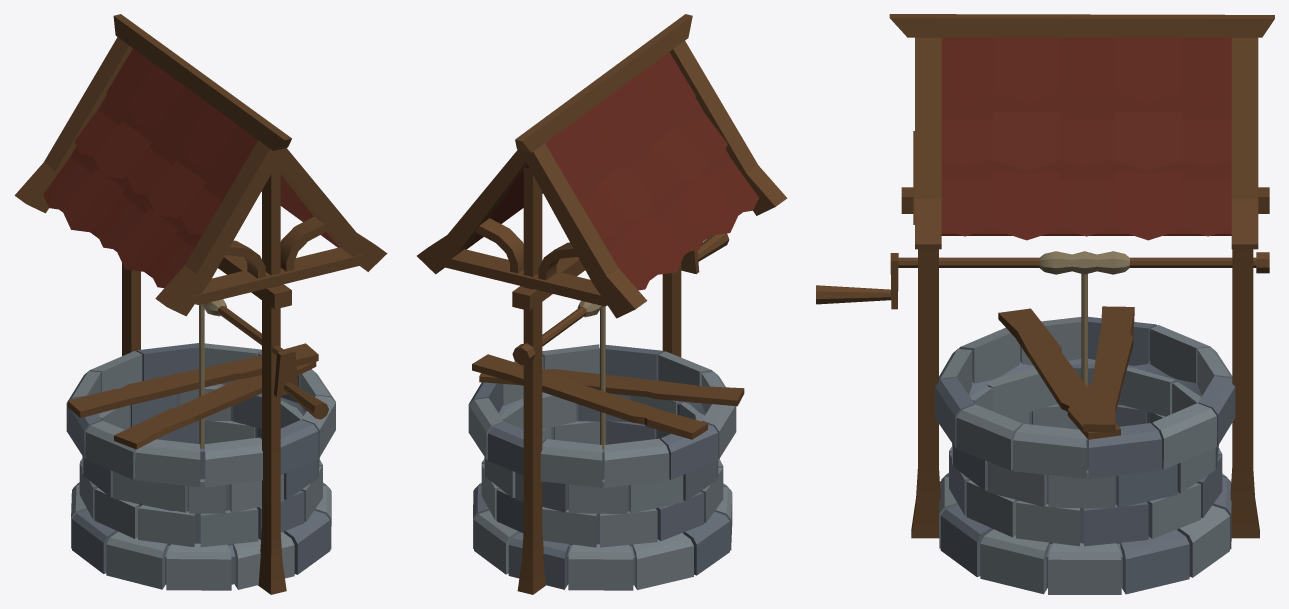
The model's file is Well.gltf.
3 views of the same model, side by side, from view 1: azimuth 30°, elevation 25°; view 2: azimuth 150°, elevation 25°; view 3: azimuth 270°, elevation 25° (orthographic). The views are drawn at different scales.
Visible parts, largest first — view 1: Well; view 2: Well; view 3: Well.
Part boxes in pixels (x1=…): Well: x1=14, y1=14, x2=387, y2=594; Well: x1=417, y1=14, x2=787, y2=594; Well: x1=816, y1=14, x2=1274, y2=594.
Bounding box in the file's own units: 0.6664 × 1.25 × 1.
